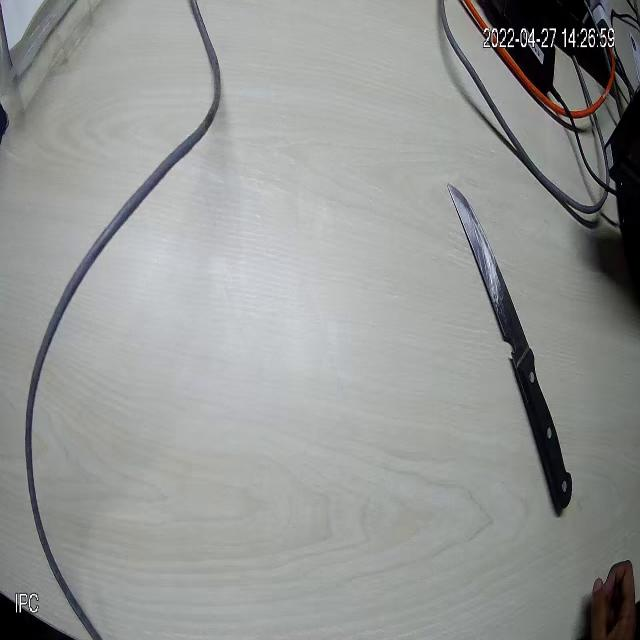knife: (447, 179, 571, 518)
